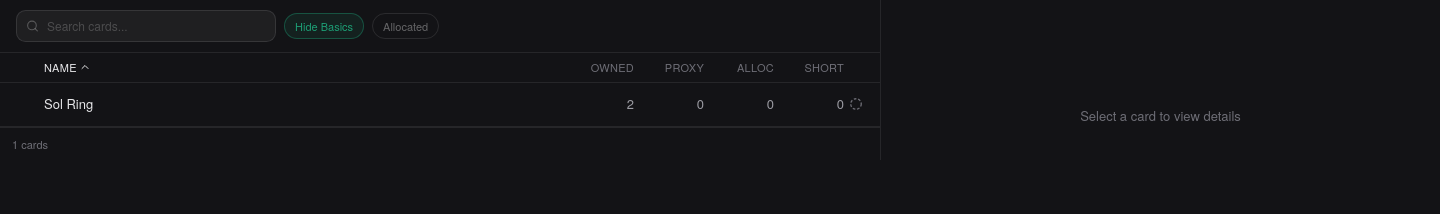
Test: CollectionRollupTab rollup-level selection › does not store non-numeric resolver values as copy IDs
The image size is (1440, 214).
Click the checkbox named "Select Sol Ring": point(28, 104) [12,97,44,111]
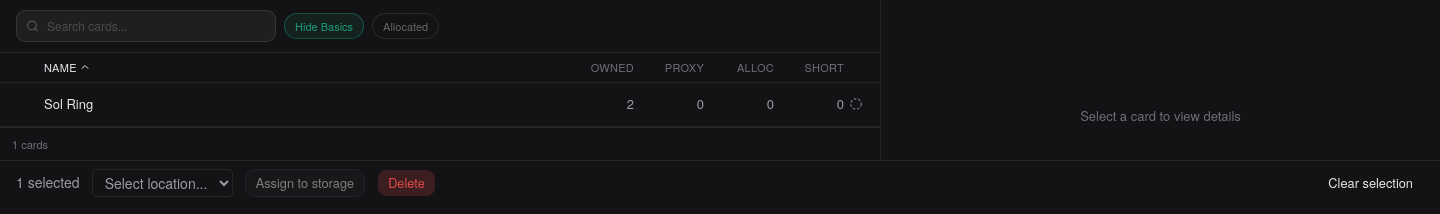
expect the text "1 selected" is shown: met, box [16,172,80,193]
